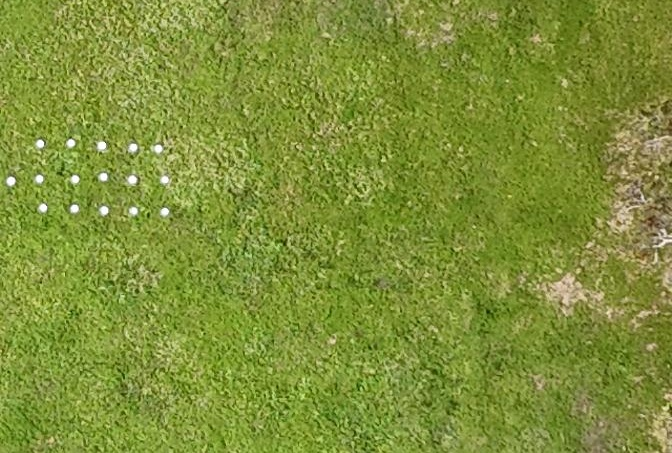bowl: (6, 176, 16, 187), (35, 174, 44, 184), (39, 203, 48, 213), (70, 203, 79, 213), (100, 205, 109, 215), (129, 206, 138, 216), (36, 139, 45, 148), (71, 175, 80, 184), (67, 139, 76, 148), (98, 141, 107, 150), (129, 143, 138, 152), (128, 175, 137, 184), (154, 144, 163, 153), (100, 173, 108, 182), (161, 175, 169, 184), (161, 207, 169, 216)
